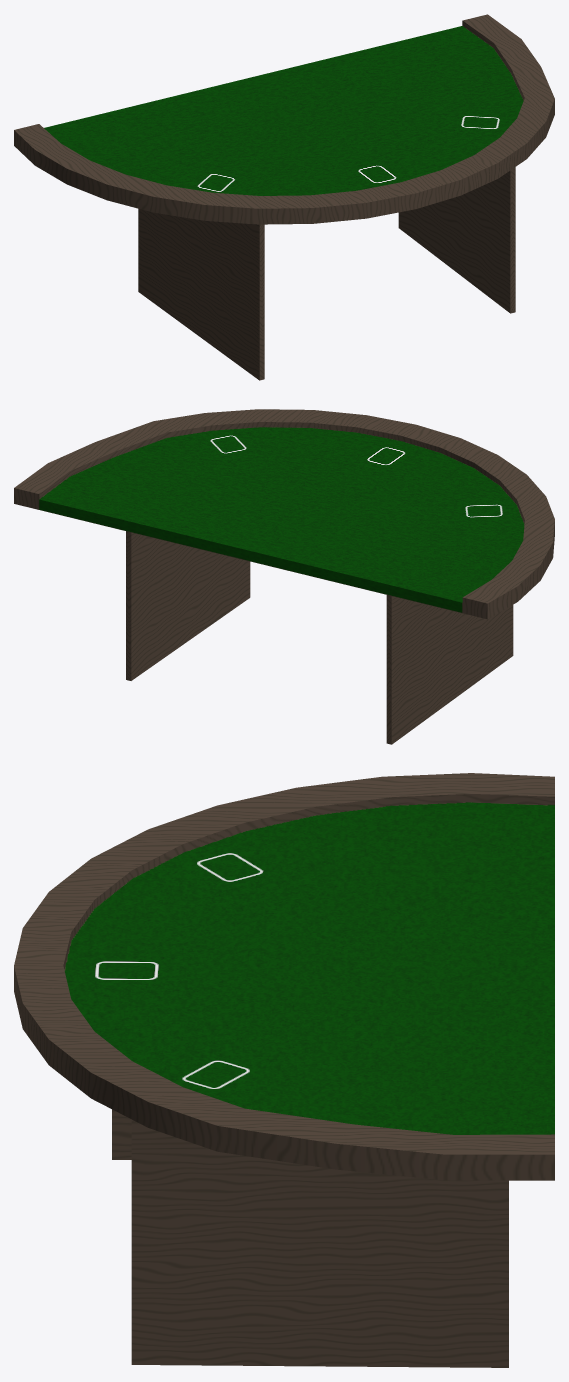
File: mesa bj.fbx
The picture shows the model from 3 angles, top to bottom: view 1: azimuth 30°, elevation 25°; view 2: azimuth 150°, elevation 25°; view 3: azimuth 270°, elevation 25°; orthographic projection. The views are drawn at different scales.
Visible parts, largest first — view 1: mesa; view 2: mesa; view 3: mesa.
Boxes of the visible parts, x1,y1,x2,y2 form: mesa: (14, 14, 554, 380); mesa: (14, 409, 554, 744); mesa: (14, 773, 554, 1367).
Size of the model in its own units: 2.39 by 0.8506 by 1.43.
